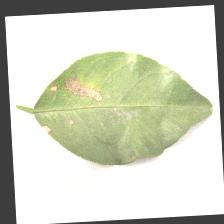canker: (40, 67, 105, 144)
